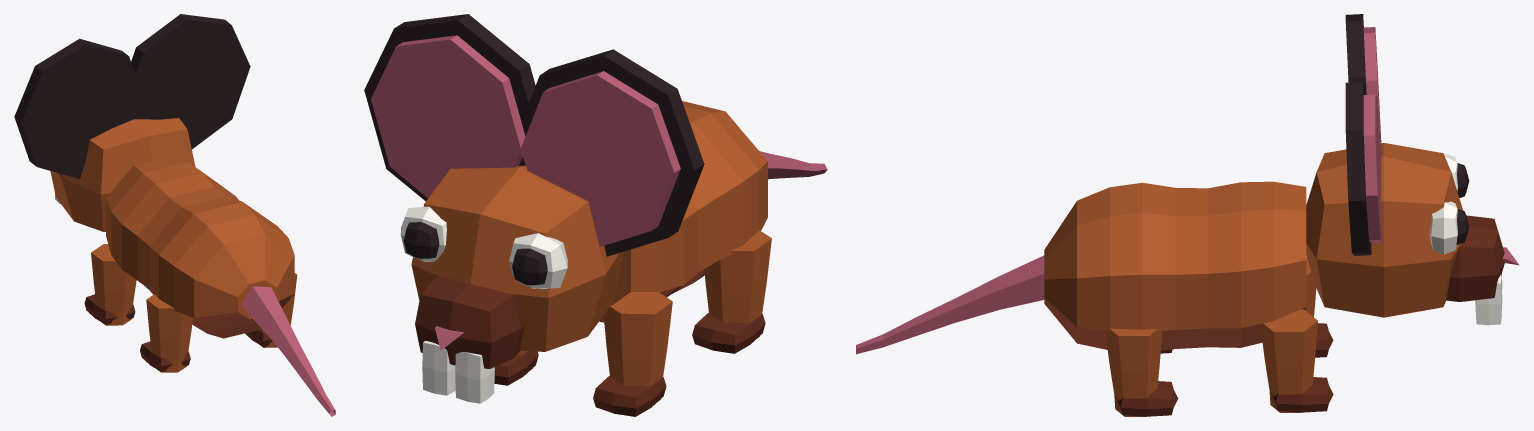
The model's file is rat.glb.
The picture shows the model from 3 angles, left to right: view 1: azimuth 30°, elevation 25°; view 2: azimuth 150°, elevation 25°; view 3: azimuth 270°, elevation 25°; orthographic projection. The views are drawn at different scales.
Parts seen in each view (by area): view 1: ratBody, legBackLeft, legFrontLeft, legBackRight; view 2: ratBody, legFrontLeft, legBackLeft, legFrontRight; view 3: ratBody, legFrontRight, legBackRight, legFrontLeft.
Boxes of the visible parts, x1,y1,x2,y2 form: ratBody: [14, 14, 335, 416]; legBackLeft: [140, 294, 192, 372]; legFrontLeft: [84, 244, 136, 325]; legBackRight: [245, 273, 297, 347]; ratBody: [364, 14, 827, 403]; legFrontLeft: [593, 292, 672, 416]; legBackLeft: [692, 230, 771, 353]; legFrontRight: [494, 350, 538, 385]; ratBody: [856, 14, 1519, 354]; legFrontRight: [1260, 309, 1333, 412]; legBackRight: [1105, 328, 1178, 416]; legFrontLeft: [1306, 257, 1333, 357].
Size of the model in its own units: 0.3415 by 0.3714 by 0.684.
